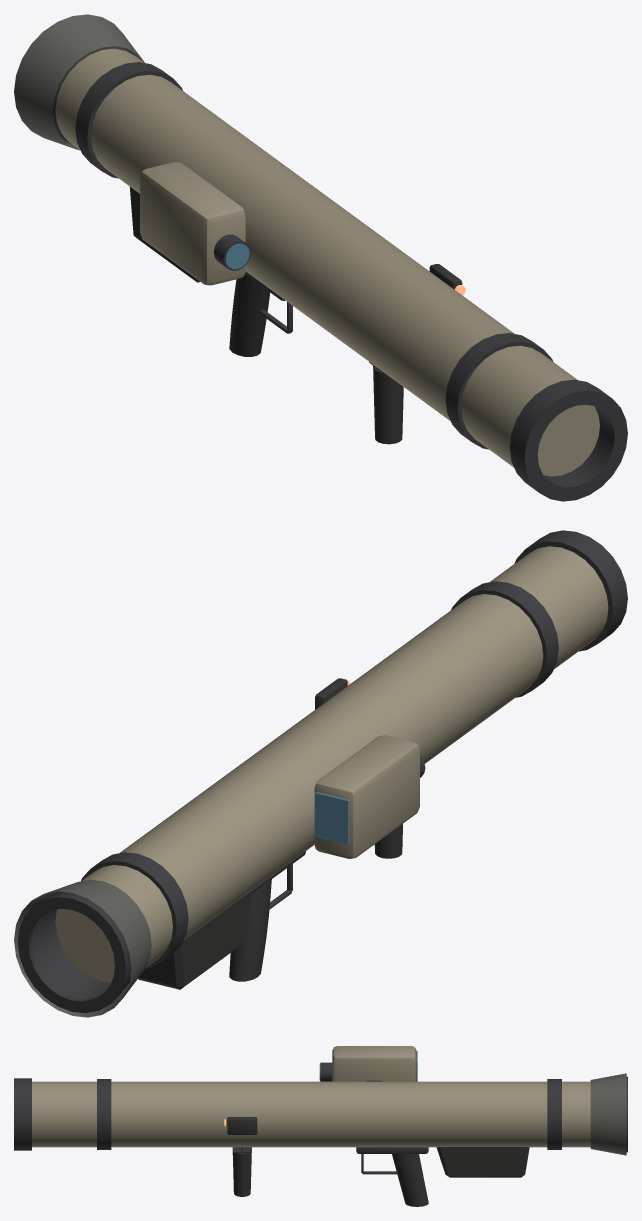
Rendered from leopard.glb.
3 renders of one model, top to bottom at view 1: azimuth 30°, elevation 25°; view 2: azimuth 150°, elevation 25°; view 3: azimuth 270°, elevation 25°, orthographic. The views are drawn at different scales.
Visible parts, largest first — view 1: Body; view 2: Body; view 3: Body.
Boxes of the visible parts, left/top/right/bottom form: Body: left=14, top=14, right=627, bottom=501; Body: left=14, top=530, right=627, bottom=1017; Body: left=14, top=1046, right=627, bottom=1206.
Size of the model in its own units: 0.2 by 0.2328 by 1.02.
